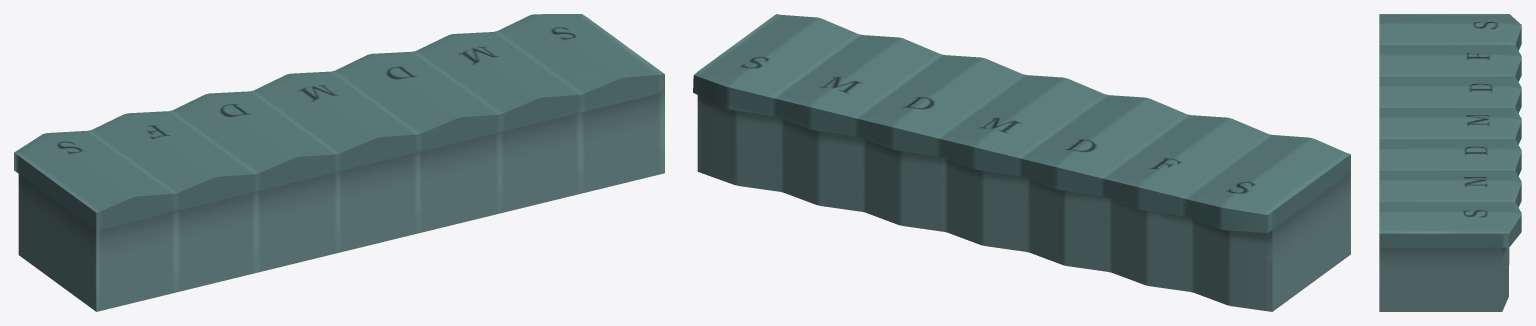
File: chemopills.fbx
The picture shows the model from 3 angles, left to right: view 1: azimuth 30°, elevation 25°; view 2: azimuth 150°, elevation 25°; view 3: azimuth 270°, elevation 25°; orthographic projection. The views are drawn at different scales.
Parts seen in each view (by area): view 1: pCube4; view 2: pCube4; view 3: pCube4.
Part boxes in pixels (<box>): pCube4: <box>14,14,664,311</box>; pCube4: <box>693,14,1350,311</box>; pCube4: <box>1379,14,1521,311</box>.
Size of the model in its own units: 12.01 by 2.13 by 3.29.
1 material, 1 textured.
